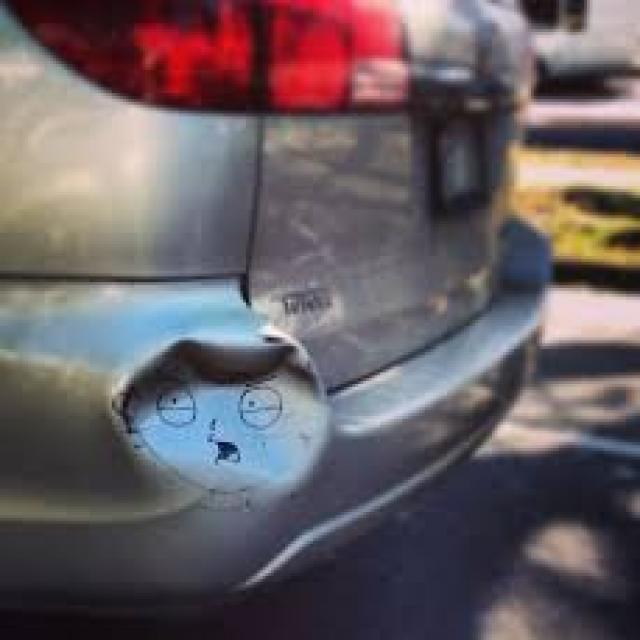dent-or-scratch: (102, 322, 331, 498)
